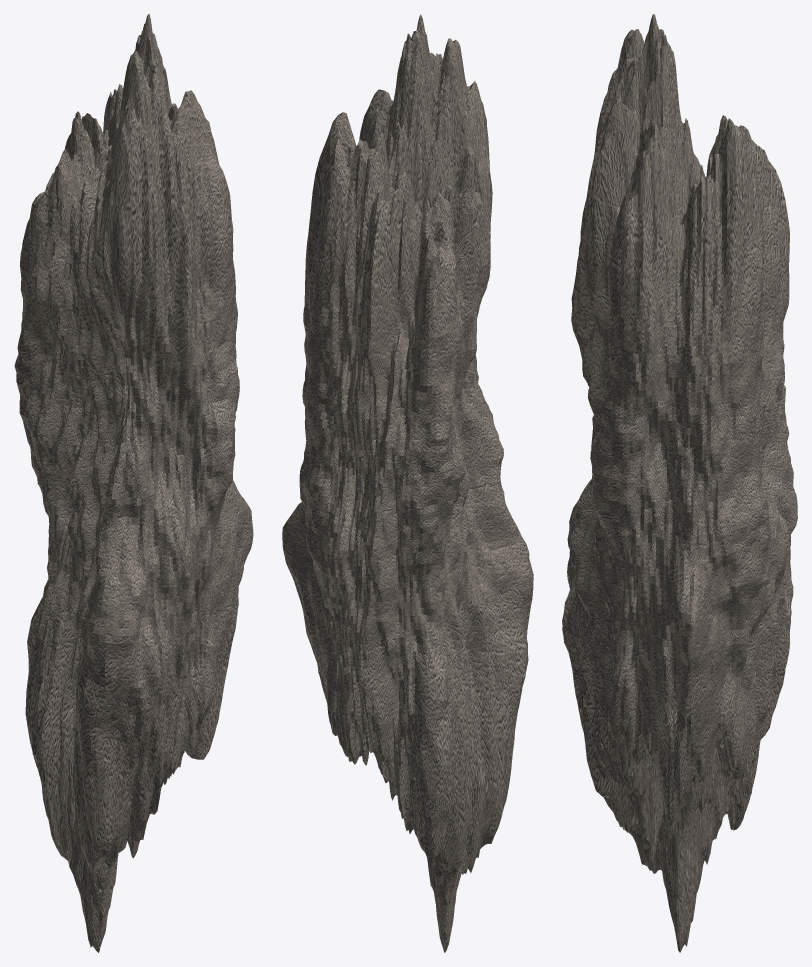
File: Stone.fbx
3 views of the same model, side by side, from view 1: azimuth 30°, elevation 25°; view 2: azimuth 150°, elevation 25°; view 3: azimuth 270°, elevation 25° (orthographic). The views are drawn at different scales.
Visible parts, largest first — view 1: Crystal; view 2: Crystal; view 3: Crystal.
Part boxes in pixels (x1,y1,x2,y2): Crystal: (14,14,253,952); Crystal: (282,14,533,952); Crystal: (562,14,797,952).
Size of the model in its own units: 1100 by 4704 by 1050.
Materials: 1 (1 with a texture image).
